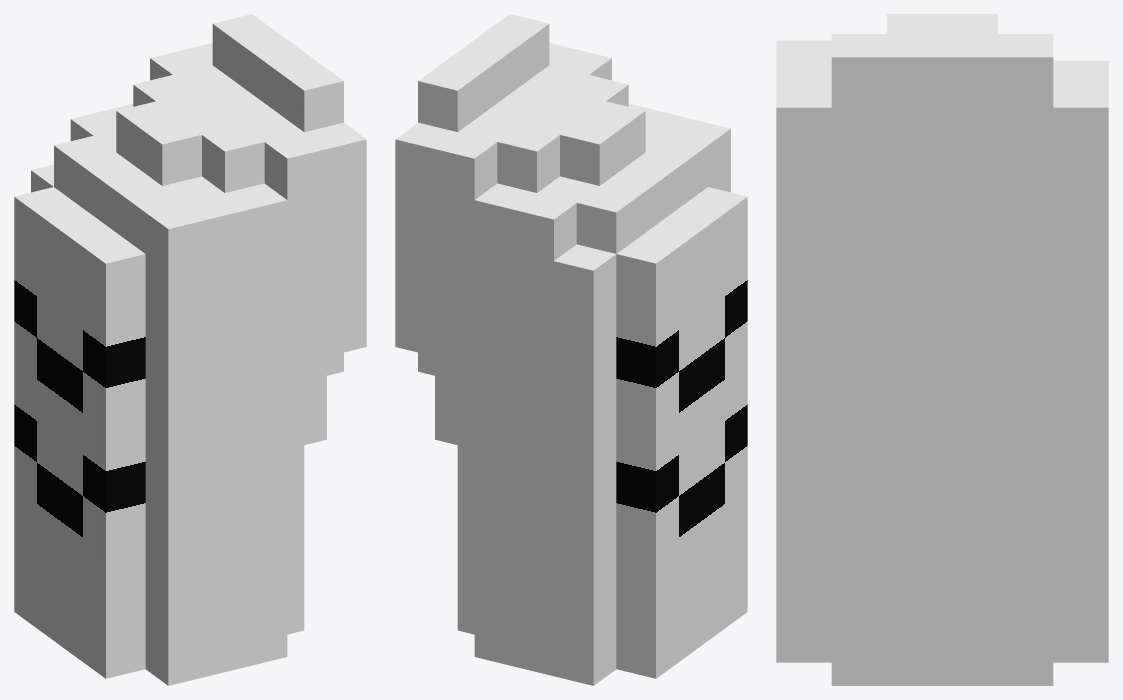
Rendered from reka_g4.dae.
3 views of the same model, side by side, from view 1: azimuth 30°, elevation 25°; view 2: azimuth 150°, elevation 25°; view 3: azimuth 270°, elevation 25° (orthographic). The views are drawn at different scales.
Parts seen in each view (by area): view 1: Content; view 2: Content; view 3: Content.
Part boxes in pixels (left/top/right/bottom): Content: left=14, top=14, right=366, bottom=685; Content: left=395, top=14, right=747, bottom=685; Content: left=776, top=14, right=1108, bottom=685.
Size of the model in its own units: 6 by 13 by 6.
Materials: 1 (1 with a texture image).
